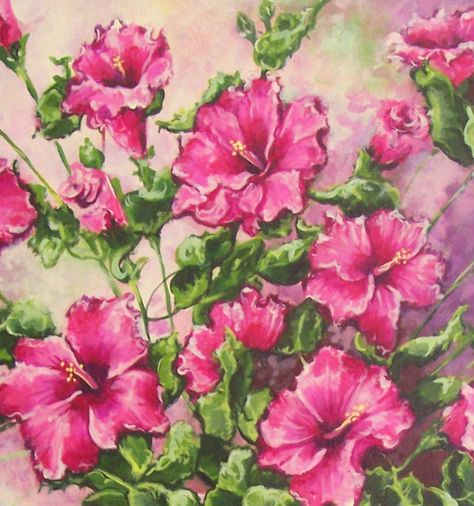Hibiscus: (2, 290, 162, 481), (183, 72, 321, 229), (268, 346, 401, 506), (307, 193, 443, 340), (73, 19, 174, 160), (185, 291, 287, 395), (62, 167, 142, 267), (390, 5, 473, 90), (368, 95, 438, 184), (5, 9, 47, 95)
